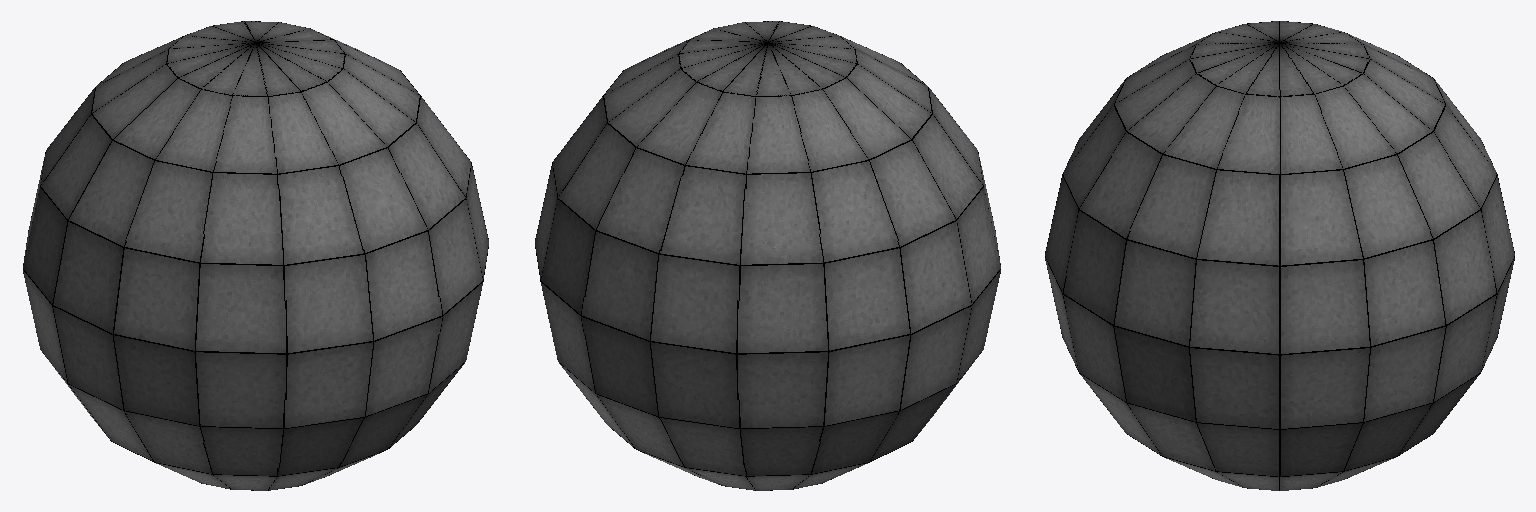
3 views of the same model, side by side, from view 1: azimuth 30°, elevation 25°; view 2: azimuth 150°, elevation 25°; view 3: azimuth 270°, elevation 25° (orthographic).
Visible parts, largest first — view 1: disco-ball; view 2: disco-ball; view 3: disco-ball.
Boxes of the visible parts, <box> form: disco-ball: <box>23,21,488,490</box>; disco-ball: <box>535,21,1000,490</box>; disco-ball: <box>1045,21,1514,490</box>.
Size of the model in its own units: 2 by 2 by 2.
1 materials, 1 textured.